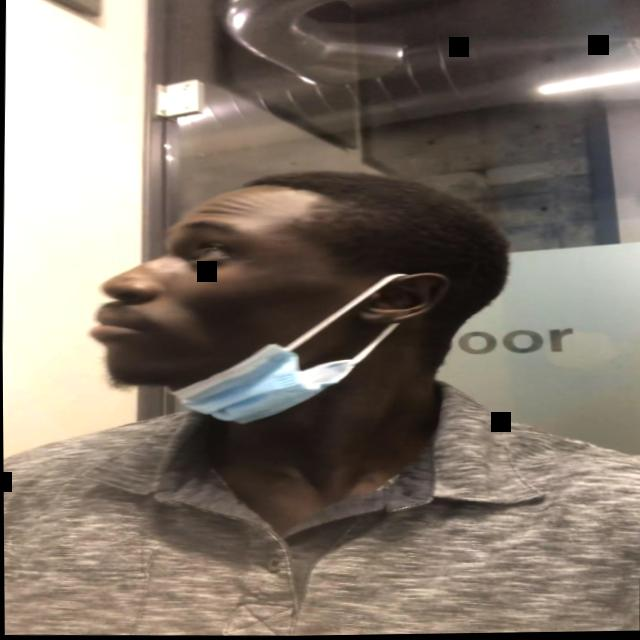NO-Mask: (87, 190, 448, 393)
